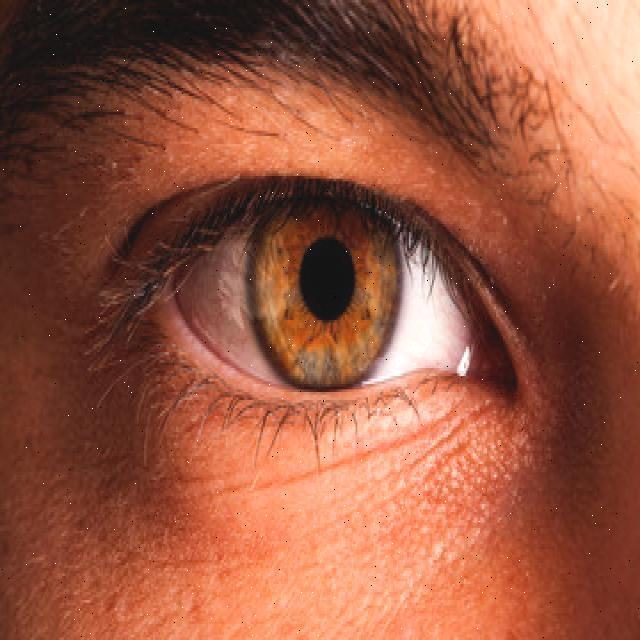Normal: (80, 142, 576, 526)
